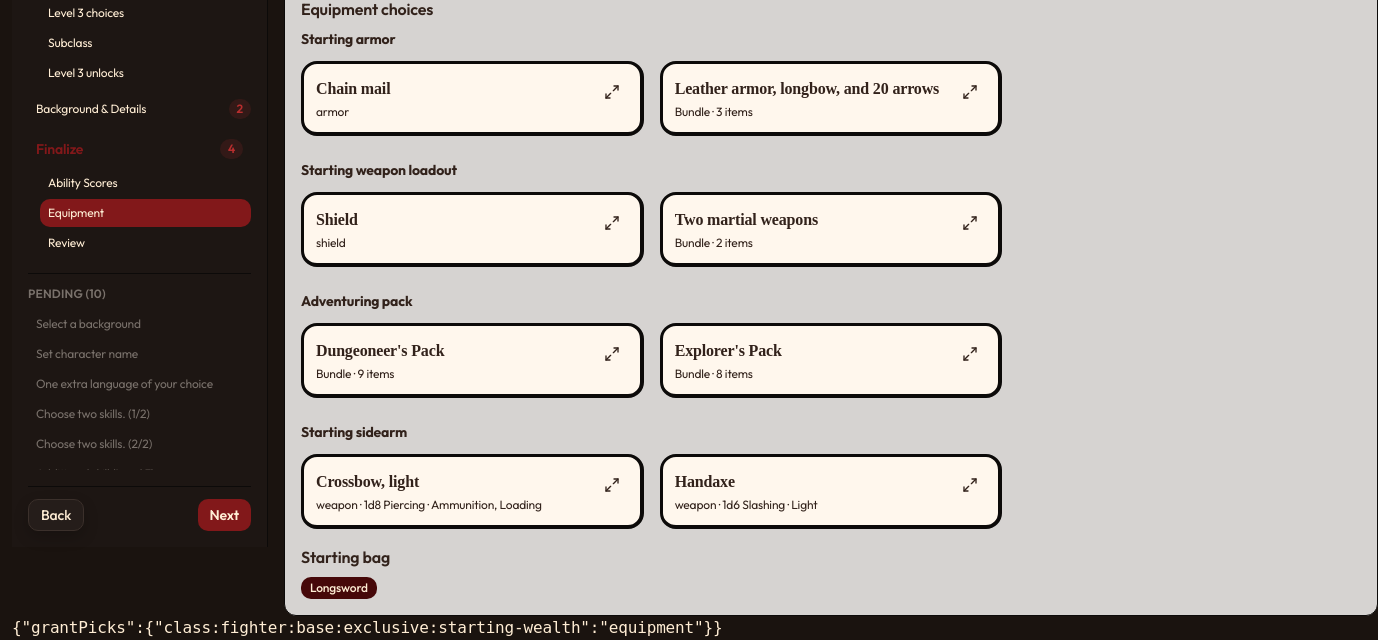
canonical character creation flows › Fighter L3: subclass in sidebar and equipment cards on equipment step
The image size is (1378, 640).
(page scrolled)
Expected: the button "Subclass" is shown, [40, 29, 251, 57]
Click the button "Crossbow, light weapon · 1d8 Piercing · Ammunition, Loading".
click(368, 482)  # box [316, 469, 588, 513]
(page scrolled)
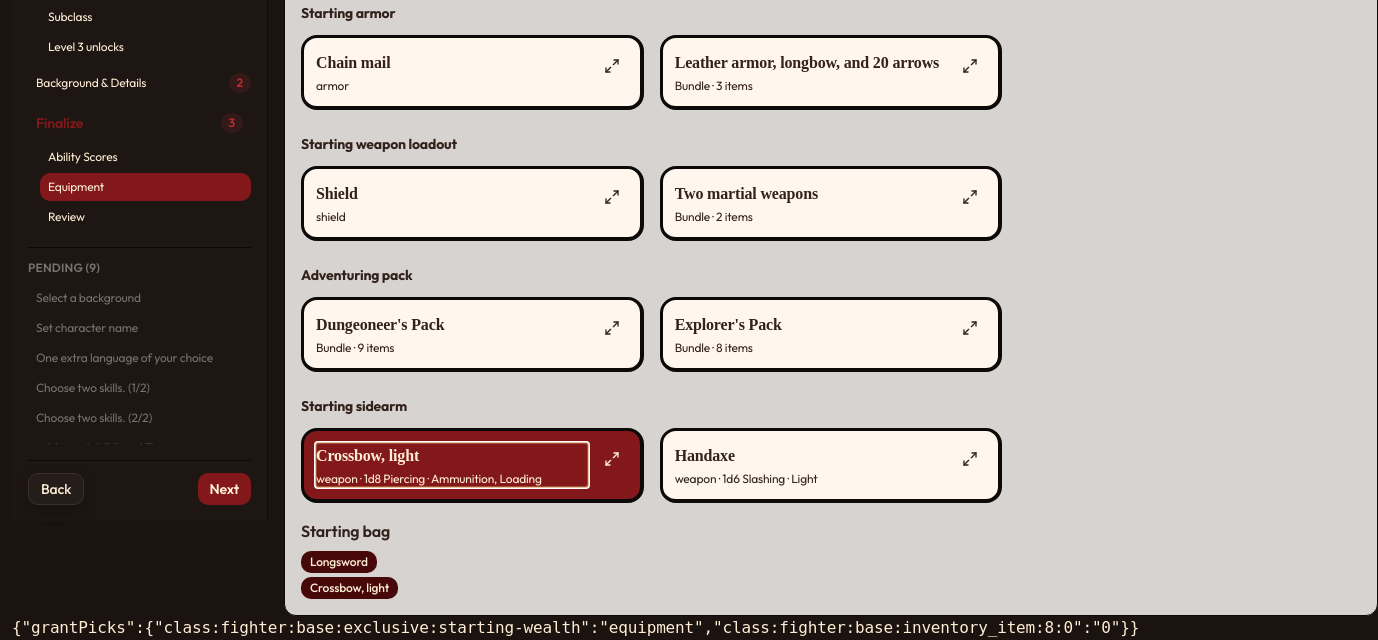
Result: the text with test id "choices-output" shows "class:fighter:base:inventory_item:8:0" at [12, 618, 1139, 637]
